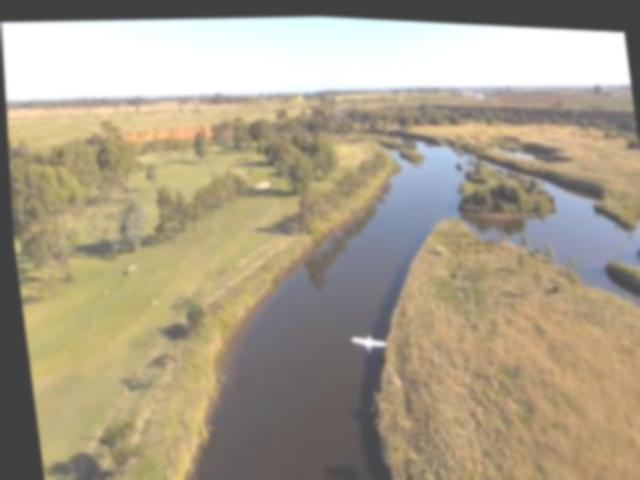uav: (343, 324, 386, 351)
